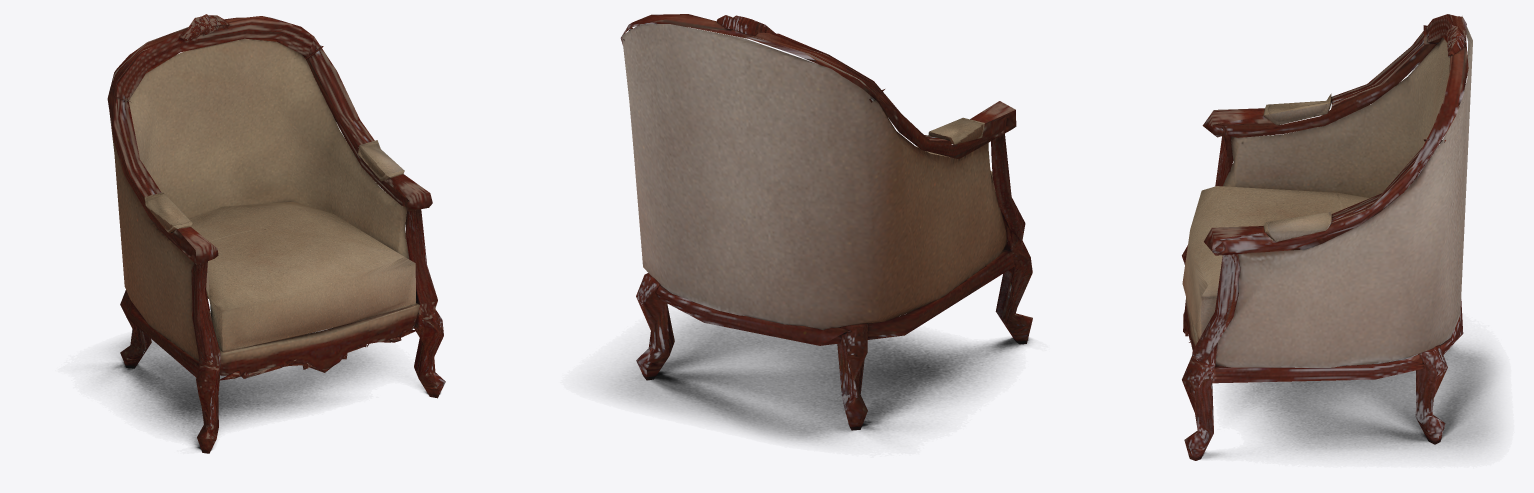
The picture shows the model from 3 angles, left to right: view 1: azimuth 30°, elevation 25°; view 2: azimuth 150°, elevation 25°; view 3: azimuth 270°, elevation 25°; orthographic projection. The views are drawn at different scales.
Parts seen in each view (by area): view 1: Armchair_0; view 2: Armchair_0; view 3: Armchair_0.
Part boxes in pixels (bbox=[...]): Armchair_0: bbox=[98, 14, 445, 453]; Armchair_0: bbox=[605, 14, 1032, 442]; Armchair_0: bbox=[1182, 14, 1497, 460].
Bounding box in the file's own units: 1.12 × 1.06 × 1.01.
Materials: 2 (2 with a texture image).
